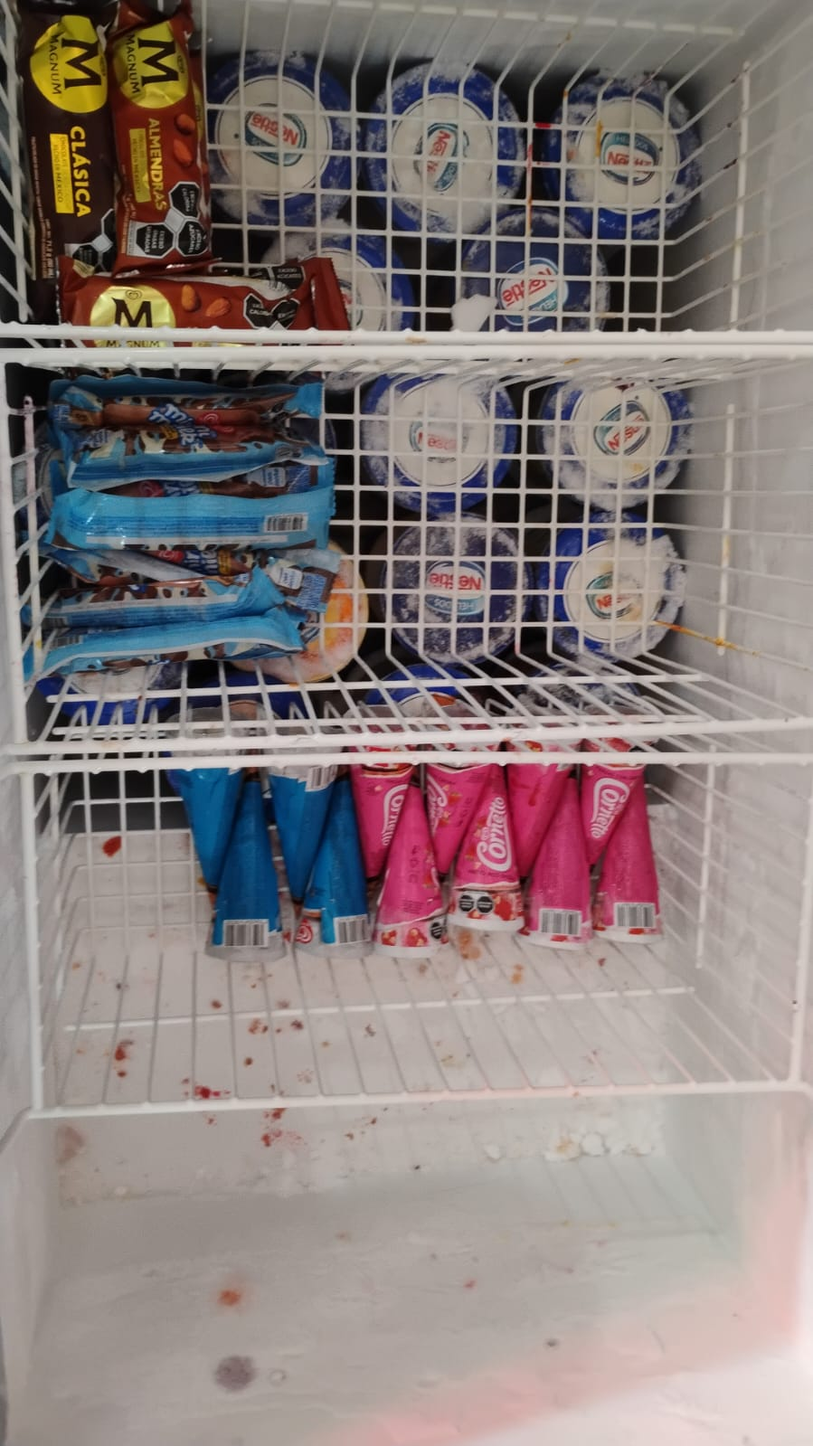rejilla: (34, 1081, 799, 1116), (25, 722, 811, 751), (2, 328, 811, 342), (27, 755, 812, 769), (4, 349, 811, 359), (2, 407, 24, 743), (24, 773, 40, 1106)
